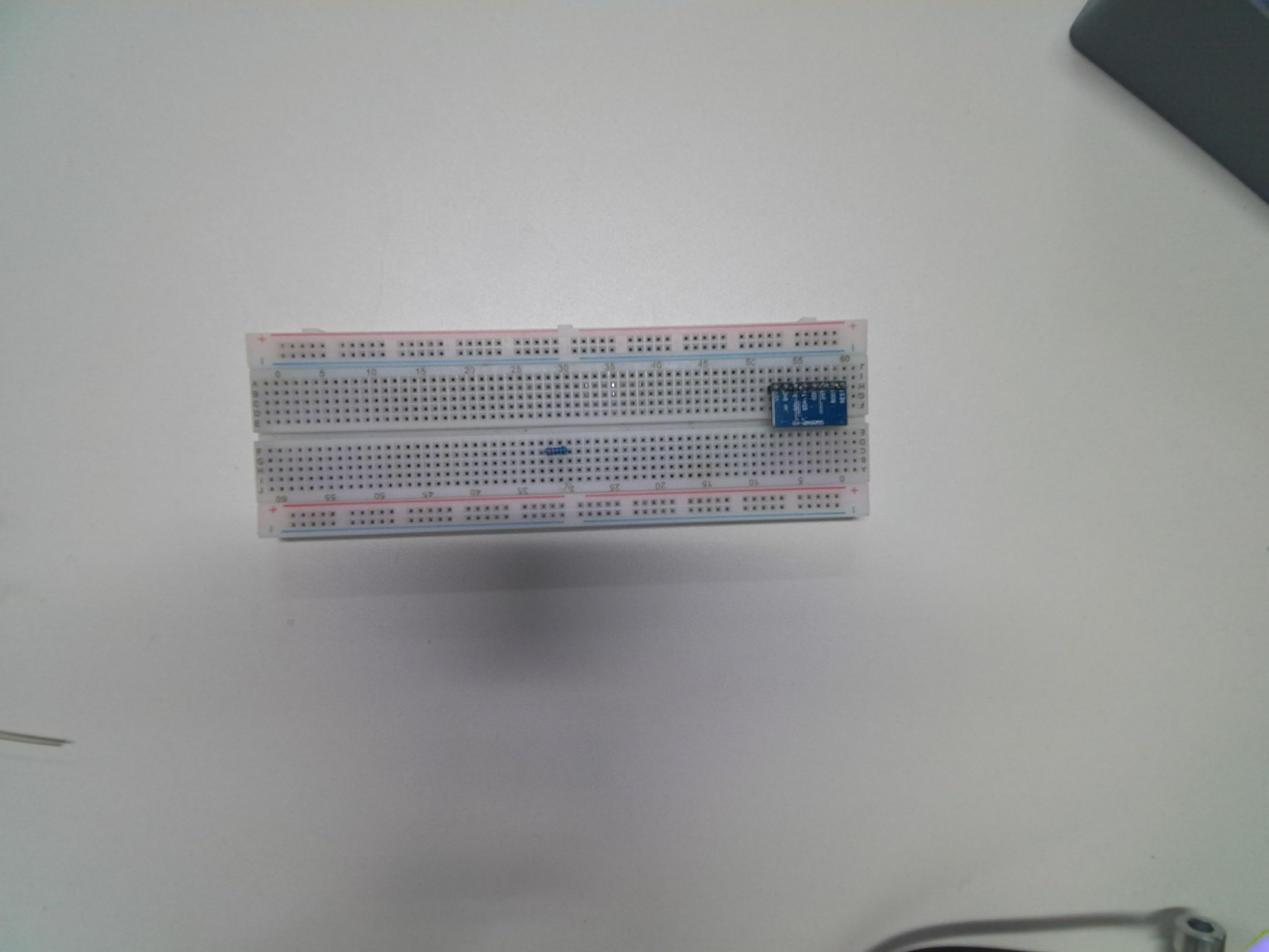base: (242, 320, 874, 540)
blue-board: (769, 378, 850, 432), (769, 379, 850, 431)
resistor-small: (543, 443, 570, 456)
